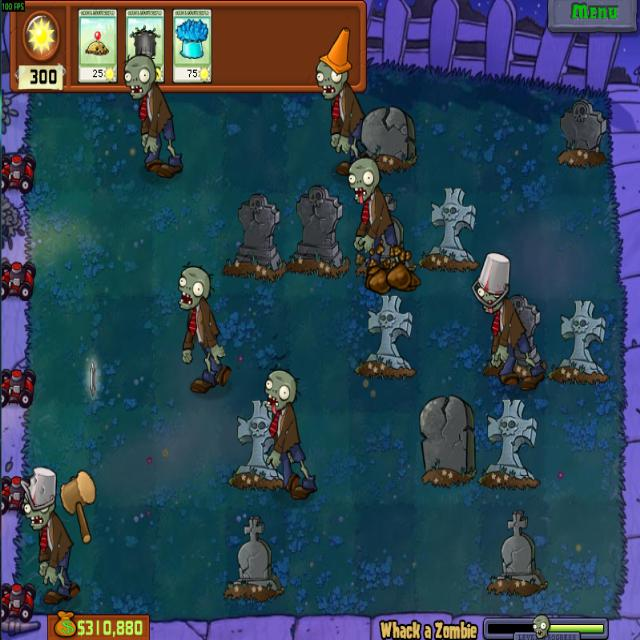buckethead: (471, 250, 511, 314)
conehead: (316, 25, 354, 101)
damaged_buckethead: (19, 468, 57, 532)
grave: (416, 393, 477, 487), (289, 185, 350, 278), (479, 396, 540, 488), (222, 512, 284, 601), (486, 508, 548, 595), (222, 193, 285, 278), (355, 293, 417, 379), (228, 397, 284, 490), (549, 300, 609, 383), (420, 189, 480, 270), (358, 101, 416, 168), (555, 96, 607, 169), (362, 194, 410, 270)
gravebuster: (126, 7, 164, 83)
zombie: (174, 262, 213, 310), (262, 369, 300, 414), (347, 153, 381, 203), (124, 54, 158, 98)
